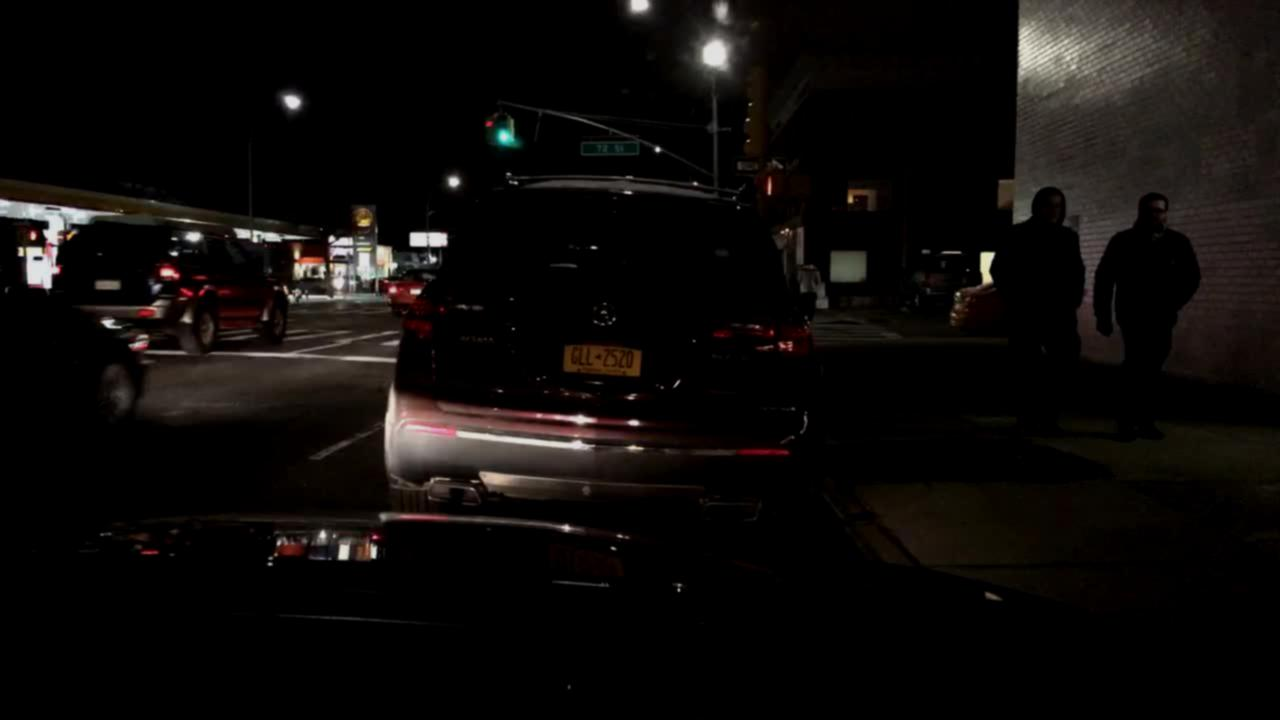acura: (586, 297, 622, 332)
